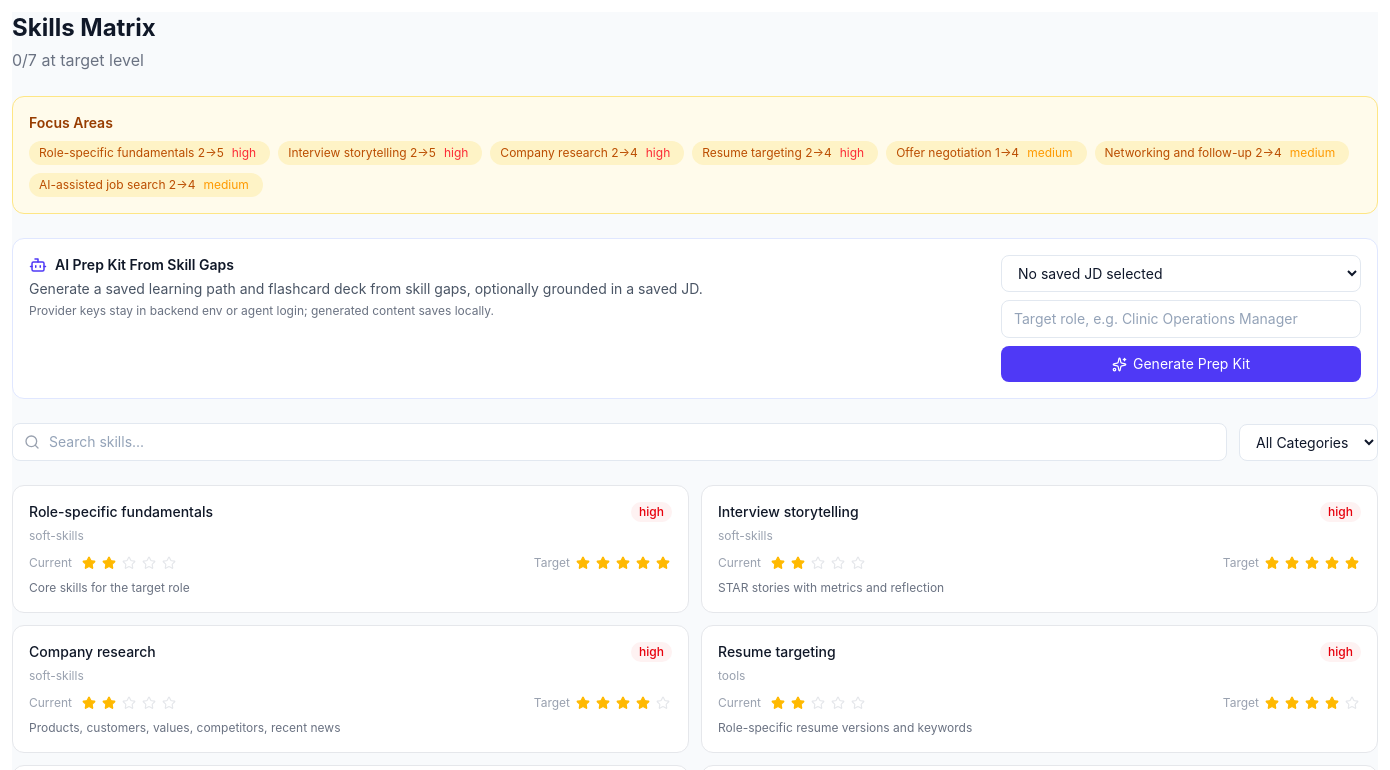
Scenario: Skills AI prep kit › previews, edits, and saves AI-native learning path and flashcards from skill gaps
In the field with placeholder "Target role, e.g. Clinic Operations Manager": (1181, 319) [1001,300,1361,338], type "Clinic Operations Manager"
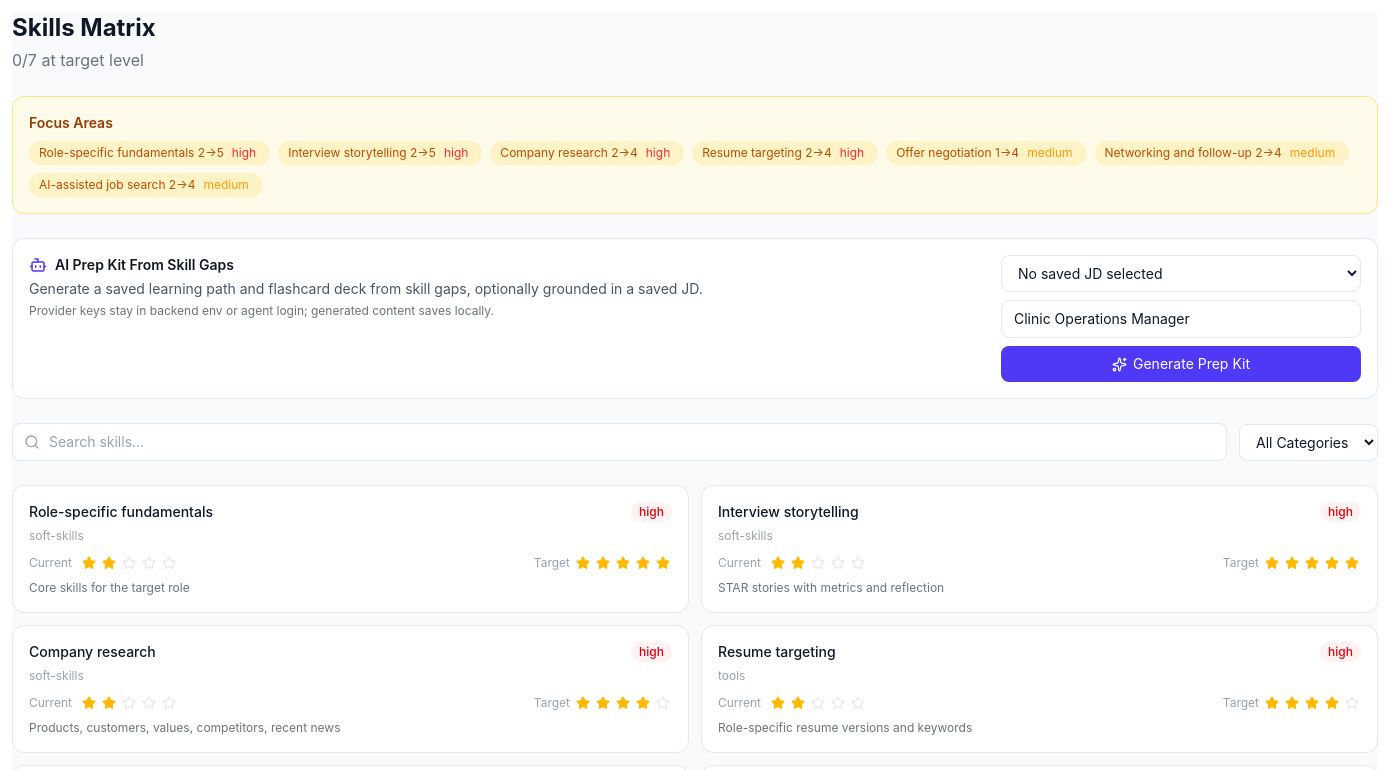
Click the button "Generate Prep Kit": (1181, 364) [1001,346,1361,382]
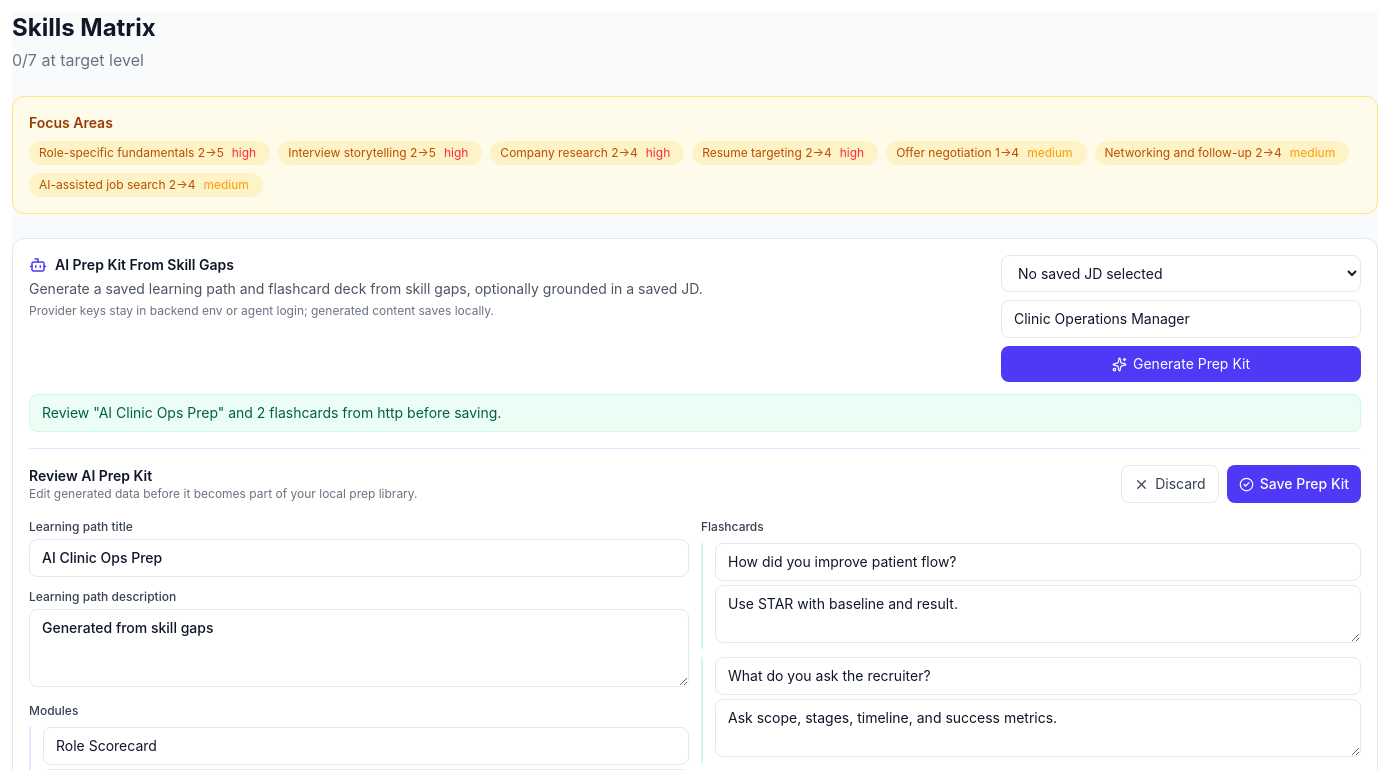
Check: the text "Review \"AI Clinic Ops Prep\"" is shown, box [42,404,501,421]
Check: the heading "Review AI Prep Kit" is shown, box [29,467,152,484]
Replace the text in the field showing "AI Clinic Ops Prep" with "Edited Clinic Ops Prep": (359, 558) [29,539,689,577]
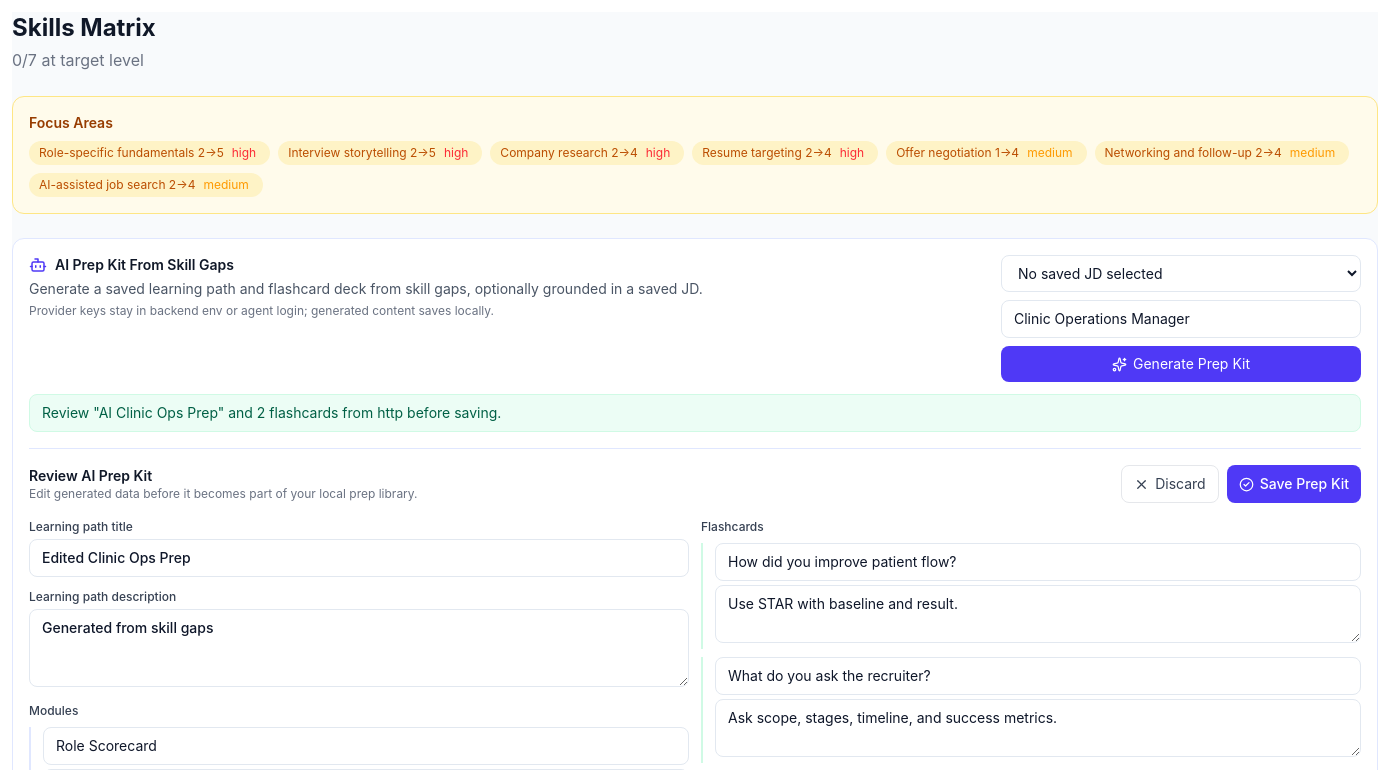
Replace the text in the field showing "How did you improve patient flow?" with "How did you reduce patient wait time?": (1038, 562) [715,543,1361,581]
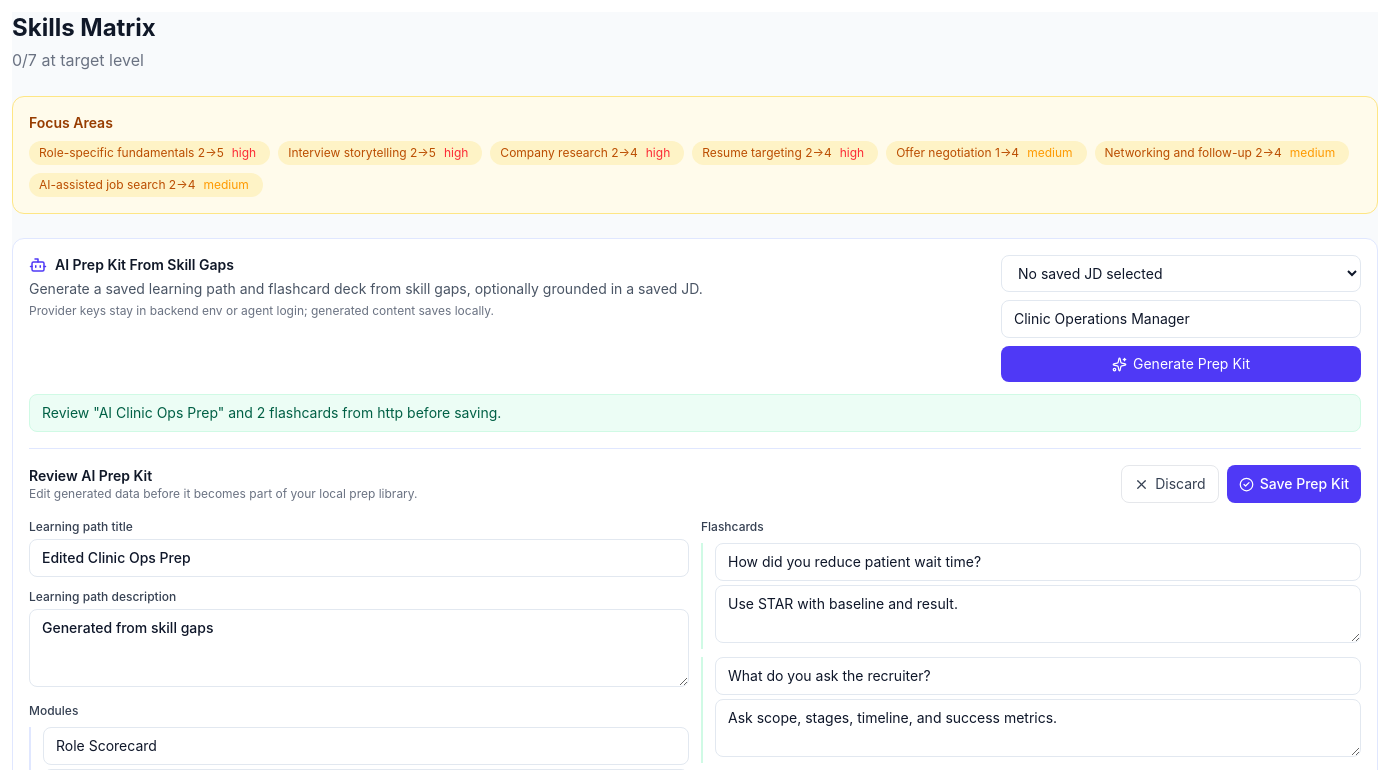
Click the button "Save Prep Kit": (1294, 484) [1227,465,1361,503]
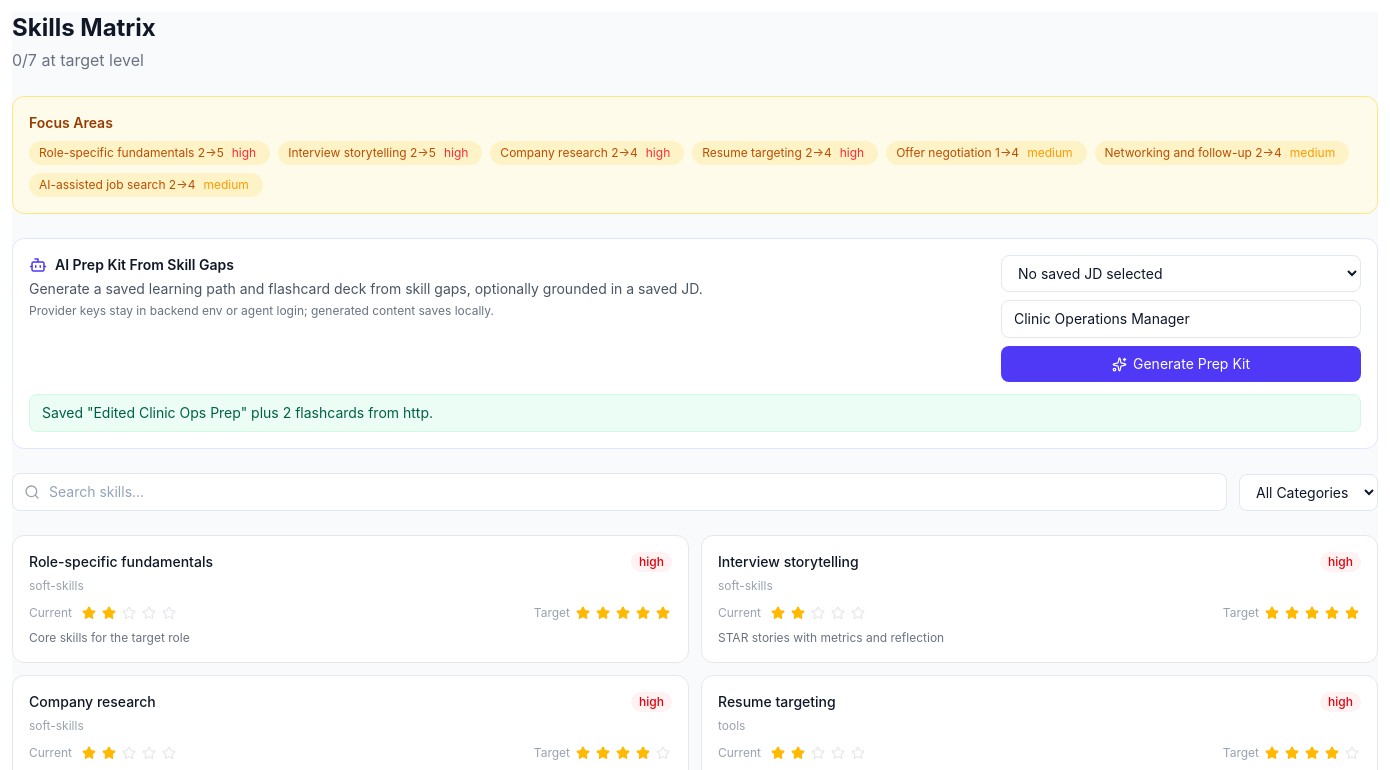
Check: the text "Saved \"Edited Clinic Ops Prep\" plus 2 flashcards from http." is shown, box [29,394,1361,432]
